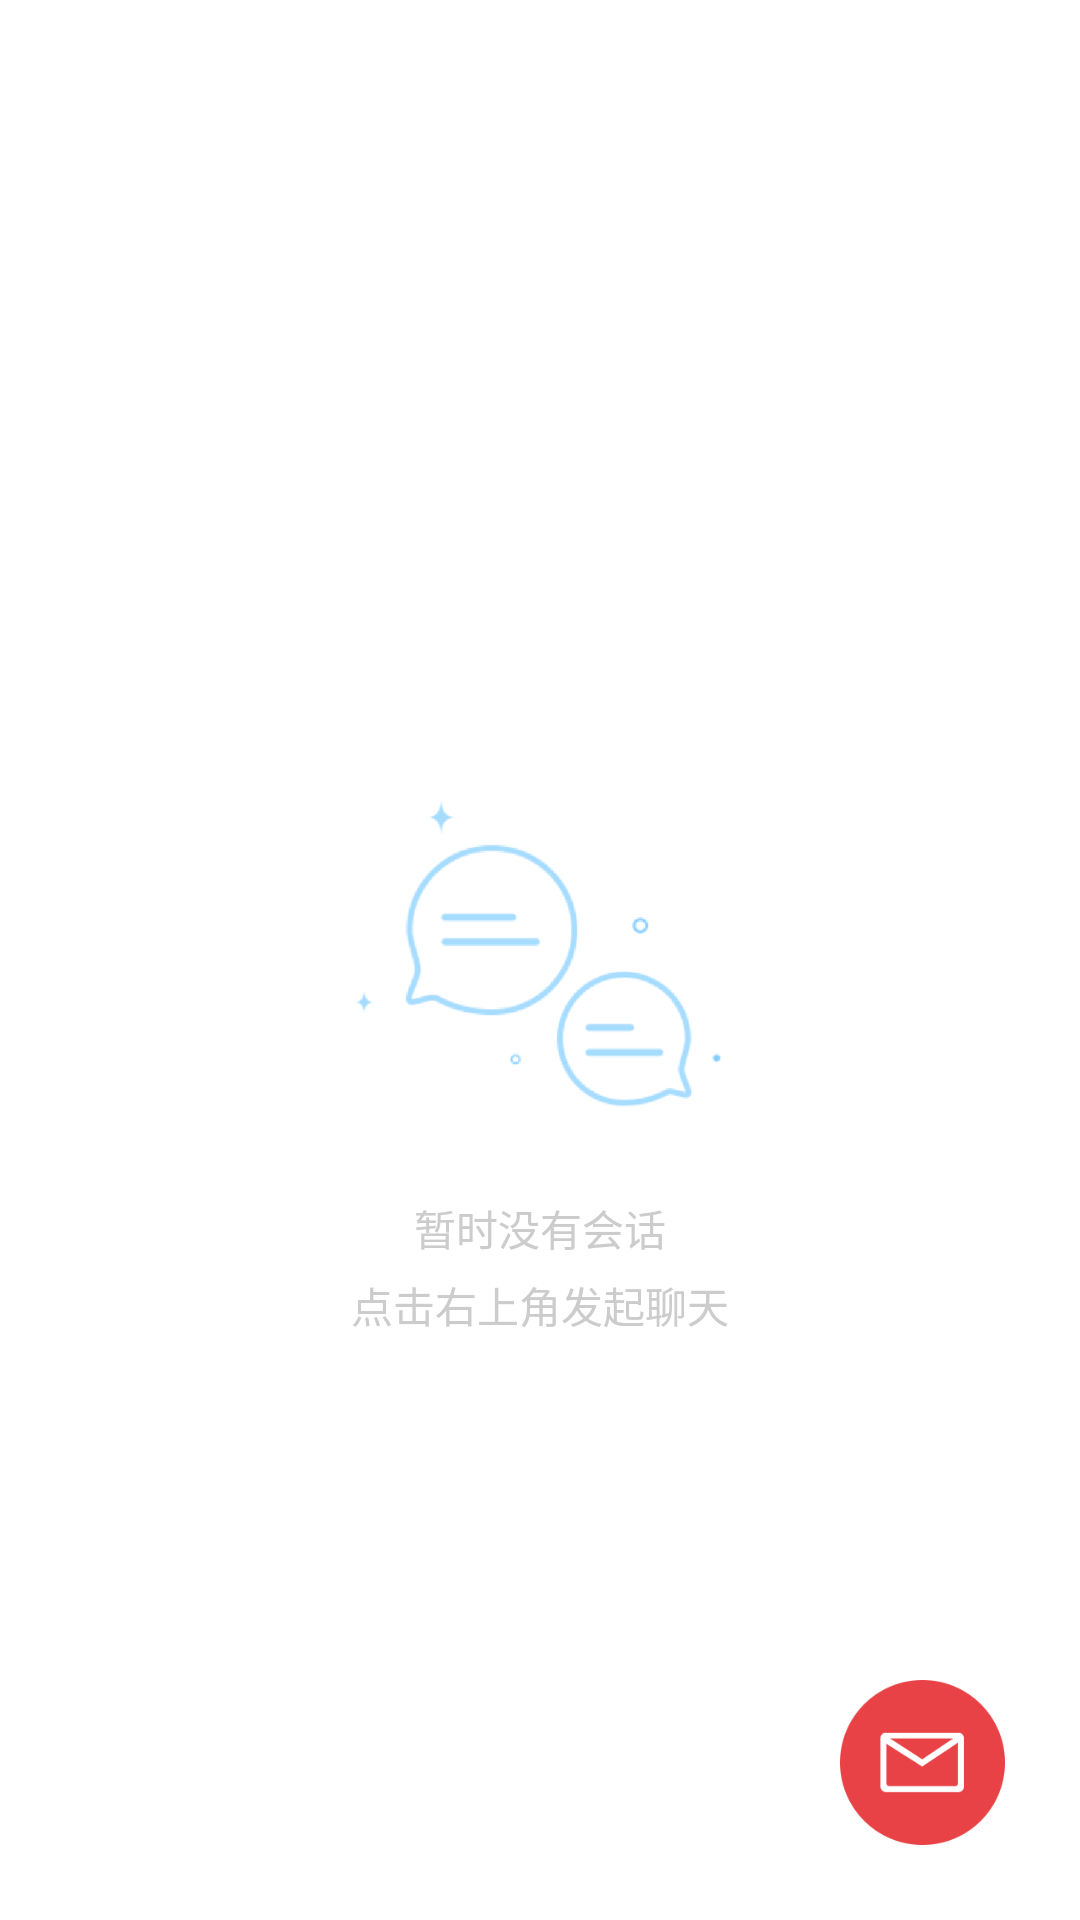

Where icons sit on this 1080px x 1920px app screen, as (x1, y1, x2, y2):
email: (840, 1680, 1005, 1845)
